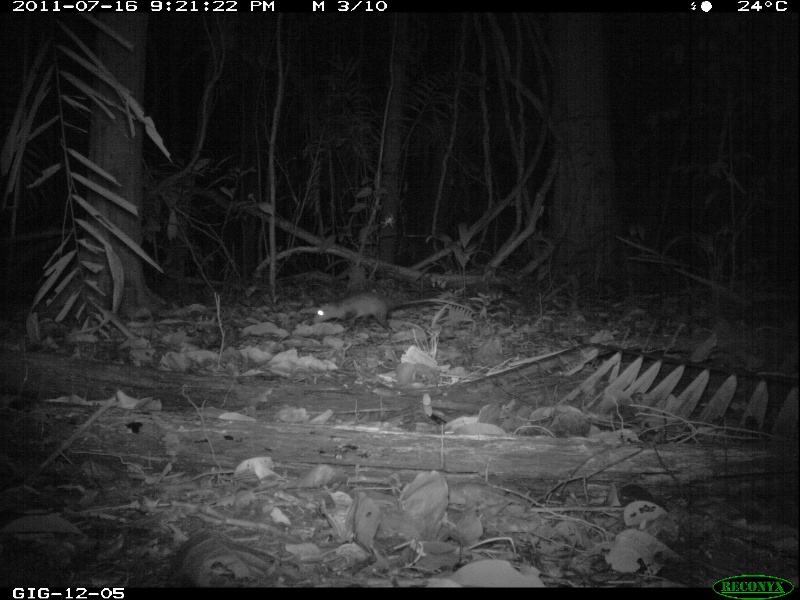opossum: (311, 292, 473, 328)
